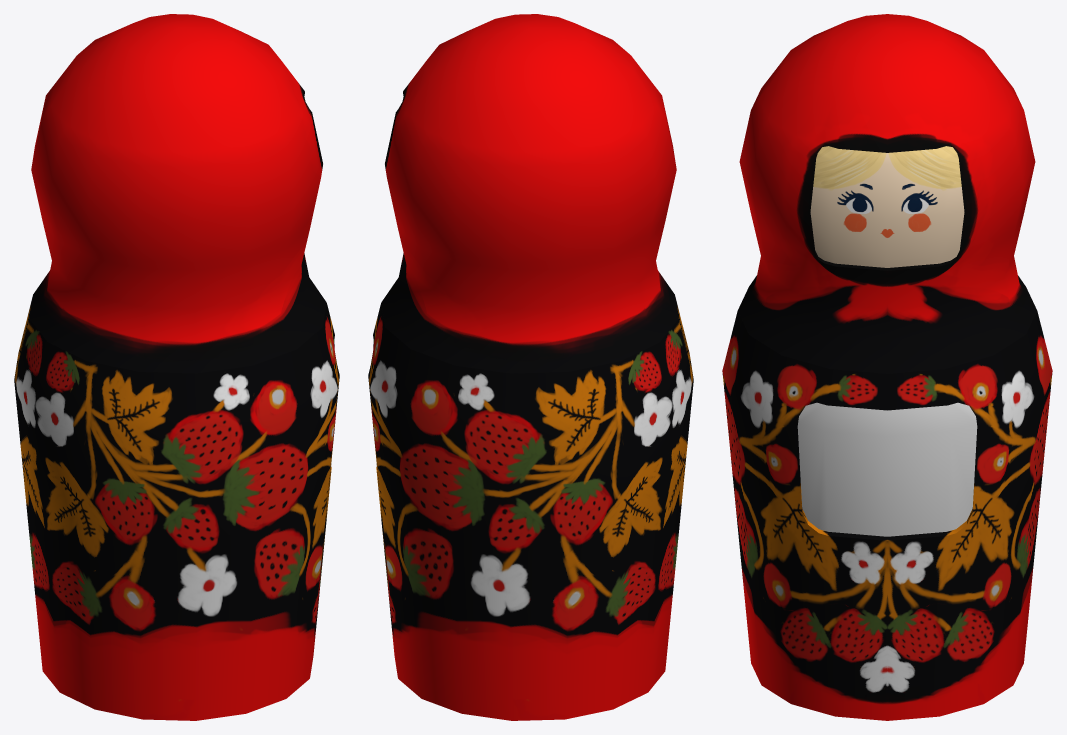
The model's file is matreshka.fbx.
3 renders of one model, left to right at view 1: azimuth 30°, elevation 25°; view 2: azimuth 150°, elevation 25°; view 3: azimuth 270°, elevation 25°, orthographic.
Visible parts, largest first — view 1: Sphere.001; view 2: Sphere.001; view 3: Sphere.001.
Boxes of the visible parts, x1,y1,x2,y2 form: Sphere.001: (14,14,339,720); Sphere.001: (368,14,693,720); Sphere.001: (722,14,1052,720).
Bounding box in the file's own units: 0.559 × 1.21 × 0.571.
